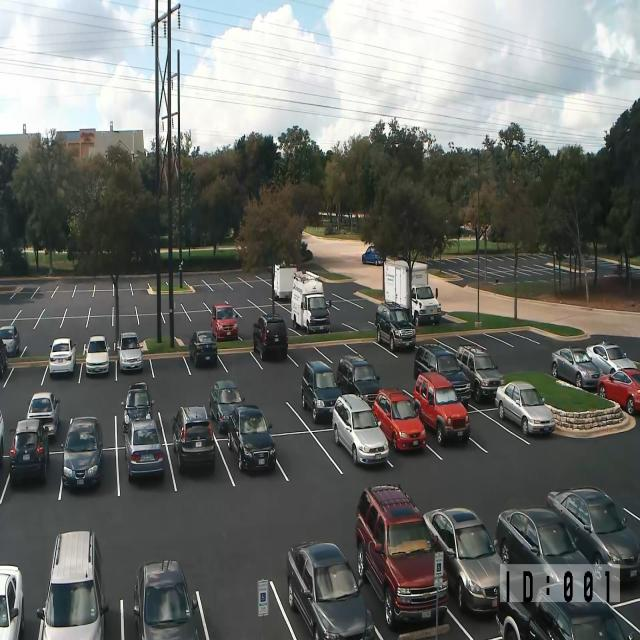car: (355, 483, 449, 629), (494, 507, 599, 605), (496, 574, 640, 640), (546, 486, 640, 584), (286, 540, 375, 640), (423, 507, 503, 615), (36, 530, 109, 639), (133, 559, 200, 639), (527, 598, 639, 640), (413, 371, 471, 446), (332, 393, 389, 466), (413, 342, 471, 406), (372, 387, 427, 452), (495, 381, 556, 436), (227, 404, 276, 472), (60, 416, 103, 490), (172, 405, 216, 472), (456, 344, 504, 402), (9, 418, 49, 483), (123, 417, 164, 480), (301, 360, 342, 423), (336, 354, 381, 408), (551, 346, 602, 390), (596, 368, 640, 415), (375, 301, 416, 351), (209, 379, 245, 433), (0, 564, 24, 639), (586, 340, 637, 375), (121, 381, 154, 434), (252, 314, 288, 361), (26, 391, 60, 439), (411, 284, 441, 326), (116, 331, 143, 372), (84, 335, 110, 376), (189, 330, 217, 368), (49, 337, 76, 375), (211, 303, 238, 341), (0, 324, 20, 356), (362, 246, 386, 266), (0, 338, 7, 377), (300, 240, 312, 261), (0, 408, 4, 467), (300, 239, 308, 253)
